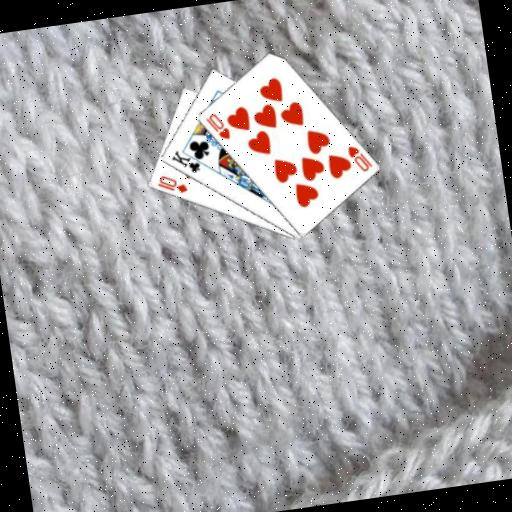10D: (152, 170, 189, 198)
10H: (201, 109, 232, 144), (344, 140, 375, 175)
KC: (167, 144, 208, 178)
